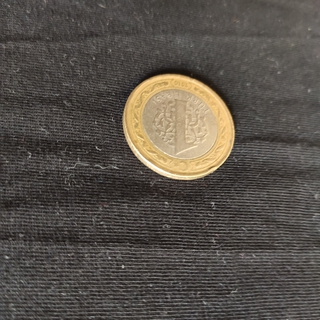1TL: (119, 70, 237, 182)
